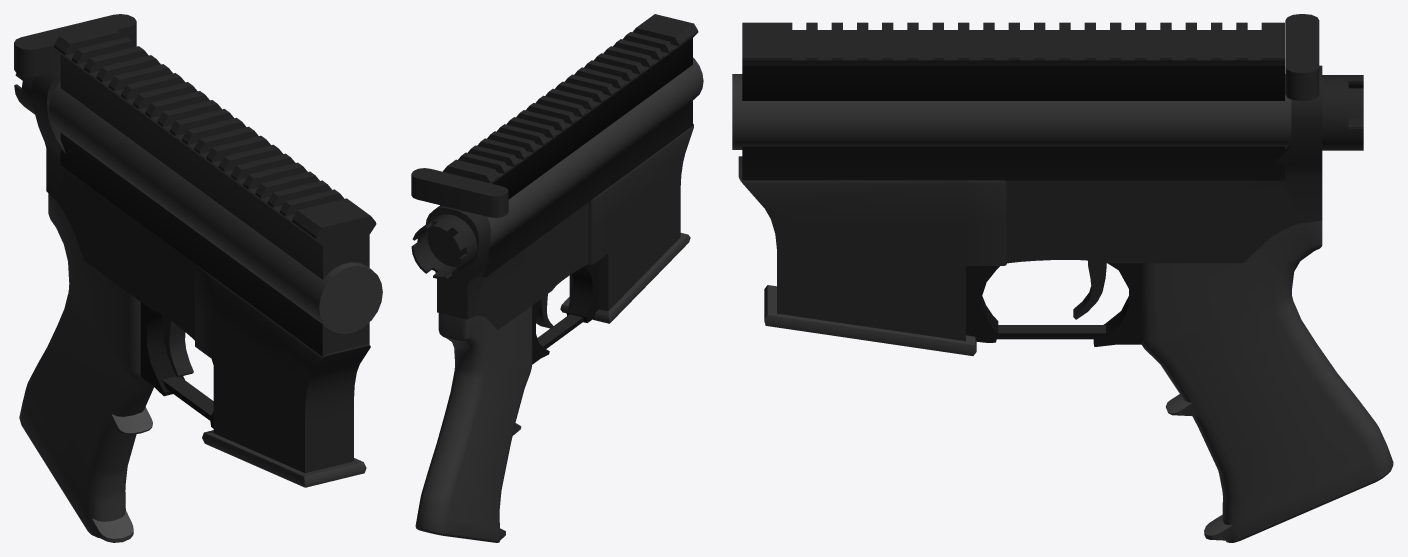
Rendered from body_1.fbx.
3 renders of one model, left to right at view 1: azimuth 30°, elevation 25°; view 2: azimuth 150°, elevation 25°; view 3: azimuth 270°, elevation 25°, orthographic. The views are drawn at different scales.
Visible parts, largest first — view 1: body_1; view 2: body_1; view 3: body_1.
Boxes of the visible parts, x1,y1,x2,y2 form: body_1: [14, 14, 382, 542]; body_1: [411, 14, 703, 542]; body_1: [732, 14, 1393, 542].
Bounding box in the file's own units: 271 × 1077 × 1282.
